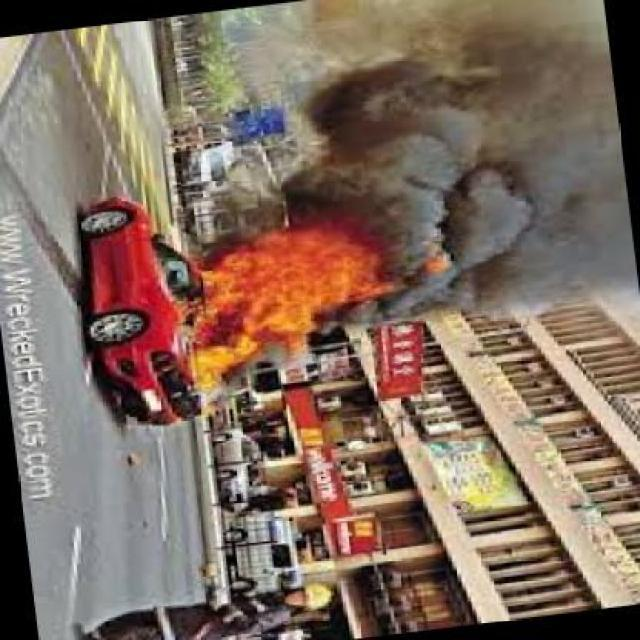Fire: (183, 220, 380, 380)
Smoke: (389, 3, 628, 331), (256, 6, 391, 216)
